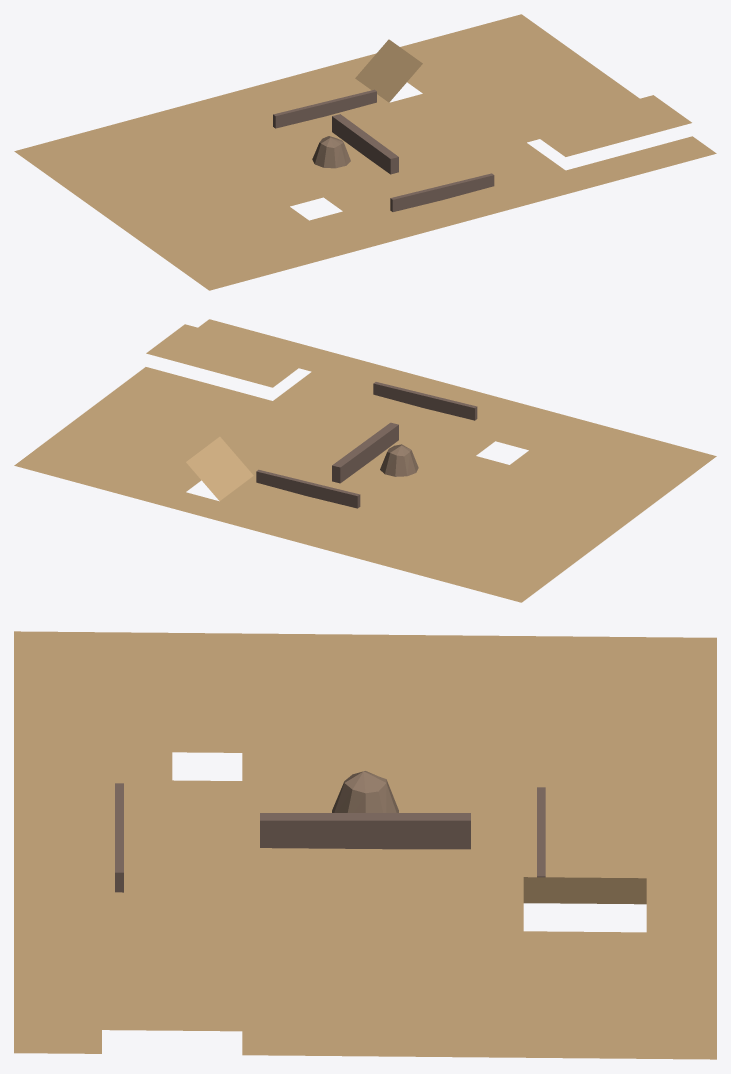
3 renders of one model, top to bottom at view 1: azimuth 30°, elevation 25°; view 2: azimuth 150°, elevation 25°; view 3: azimuth 270°, elevation 25°, orthographic. The views are drawn at different scales.
Parts seen in each view (by area): view 1: ground_ROVER_MEASURED, obstacle_corridor_divider, obstacle_corridor_south_wall, obstacle_corridor_north_wall, obstacle_boulder; view 2: ground_ROVER_MEASURED, obstacle_corridor_divider, obstacle_corridor_south_wall, obstacle_corridor_north_wall, obstacle_boulder; view 3: ground_ROVER_MEASURED, obstacle_corridor_divider, obstacle_boulder, obstacle_corridor_south_wall, obstacle_corridor_north_wall.
Boxes of the visible parts, x1,y1,x2,y2 form: ground_ROVER_MEASURED: (14,14,716,290); obstacle_corridor_divider: (332,114,398,174); obstacle_corridor_south_wall: (390,173,494,211); obstacle_corridor_north_wall: (273,89,376,128); obstacle_boulder: (312,136,350,168); ground_ROVER_MEASURED: (14,319,716,602); obstacle_corridor_divider: (332,422,398,483); obstacle_corridor_south_wall: (373,382,477,420); obstacle_corridor_north_wall: (256,469,360,508); obstacle_boulder: (380,444,418,476); ground_ROVER_MEASURED: (14,631,716,1059); obstacle_corridor_divider: (260,813,470,849); obstacle_boulder: (332,771,398,812); obstacle_corridor_south_wall: (115,783,123,892); obstacle_corridor_north_wall: (537,787,545,877).
Bounding box in the file's own units: 60 × 4.56 × 40.
